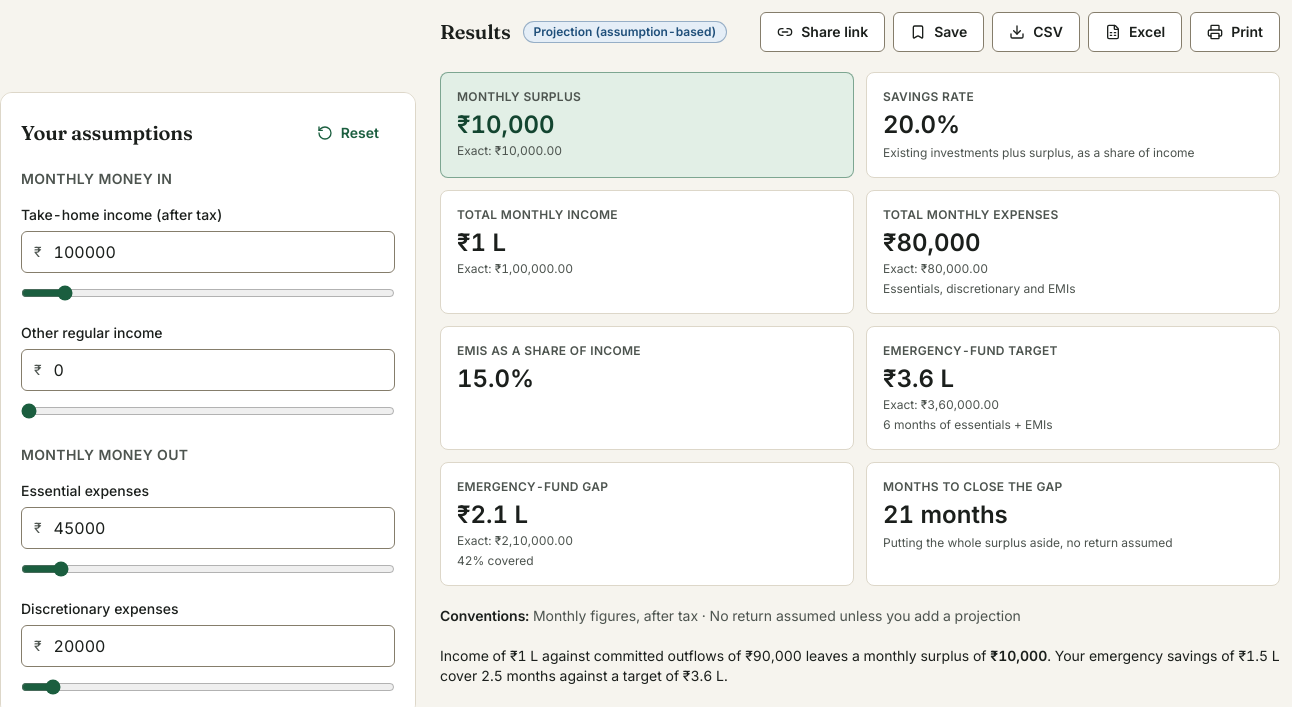
Test: Household cash-flow planner › shows a shortfall honestly, with the engine value
Replace the text in the field labelled "Discretionary expenses" with "60000": (218, 646) 42,626 -> 394,666
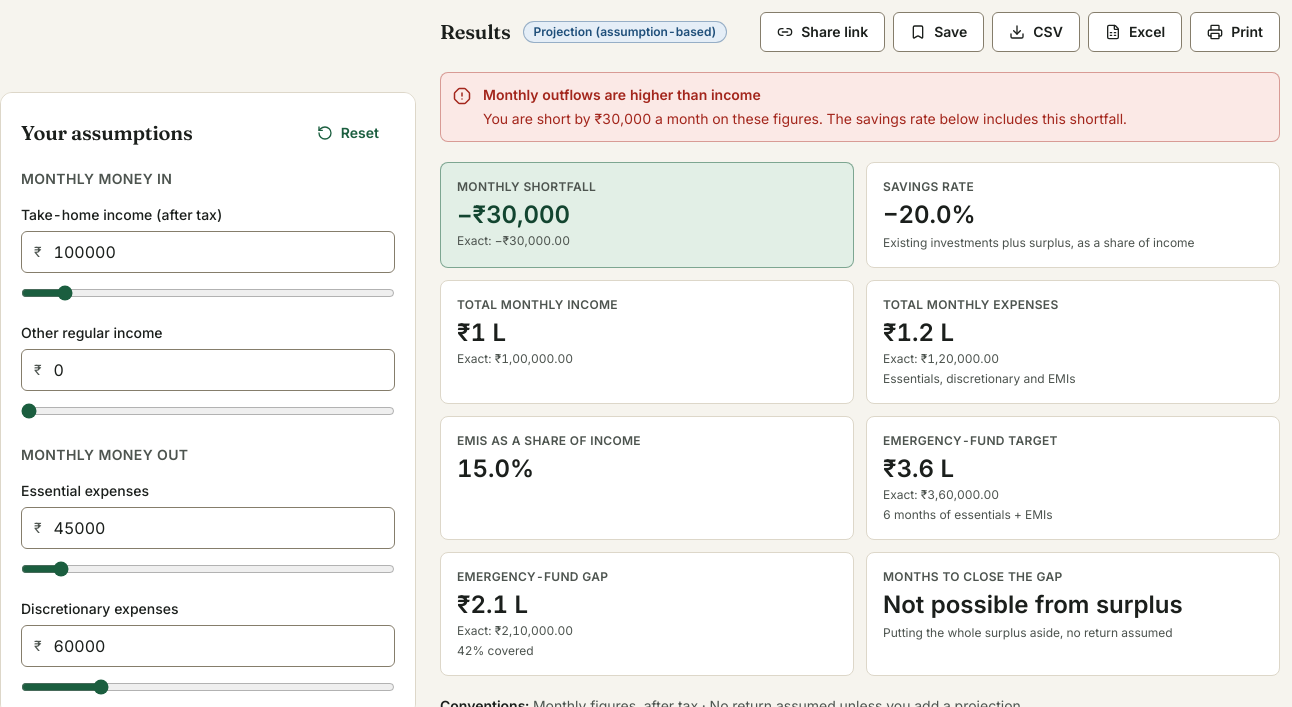
expect the element with test id "kpi-surplus" shows "Monthly shortfall": met, box 457,179 -> 596,194
expect the text "Monthly outflows are higher than income" is shown: met, box 483,86 -> 761,103
